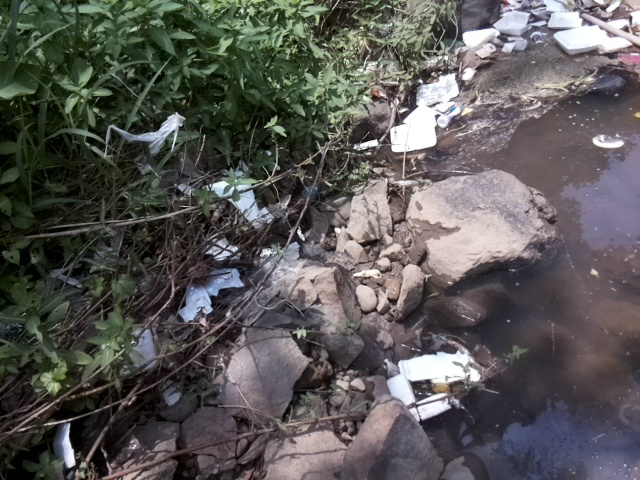Sampah_Botol_Plastik: (436, 103, 468, 129)
Sampah_Plastik: (589, 72, 630, 97)
Sampah_Styrofoam: (388, 353, 474, 423), (387, 105, 440, 154), (547, 28, 631, 54), (494, 6, 535, 39), (461, 25, 500, 50), (544, 8, 585, 31)
